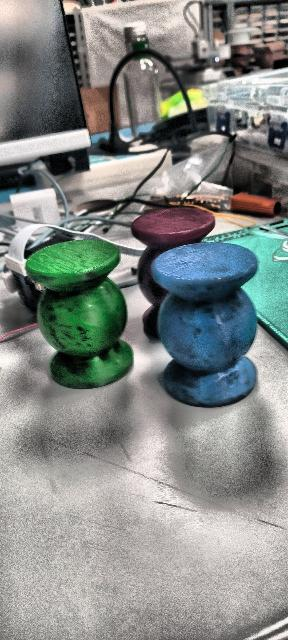blue: (152, 241, 258, 407)
green: (15, 233, 136, 409)
red: (128, 204, 228, 238)
